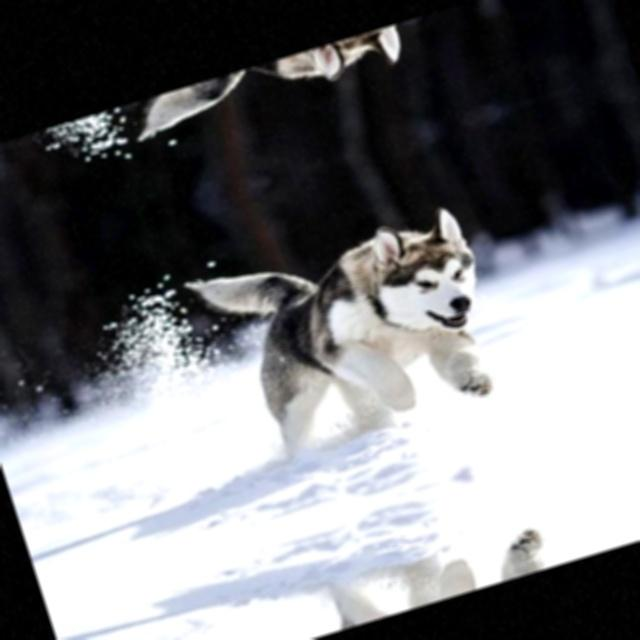dog: (188, 179, 556, 522), (276, 457, 594, 640), (135, 17, 438, 154)
